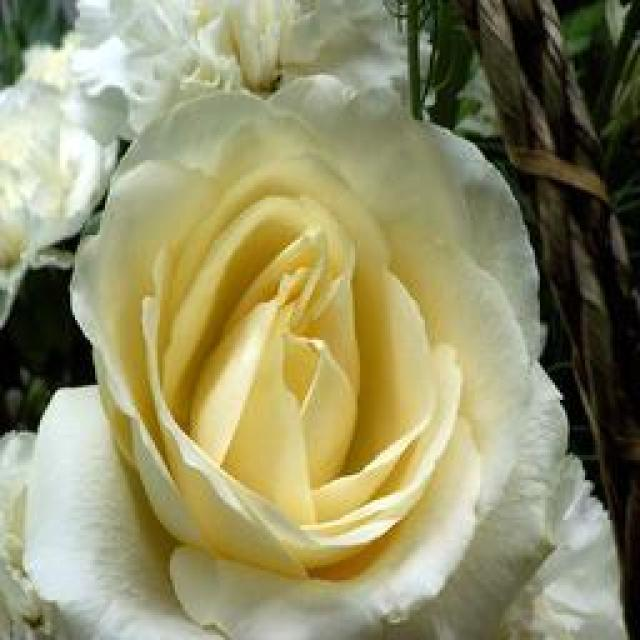rose: (54, 60, 567, 632)
